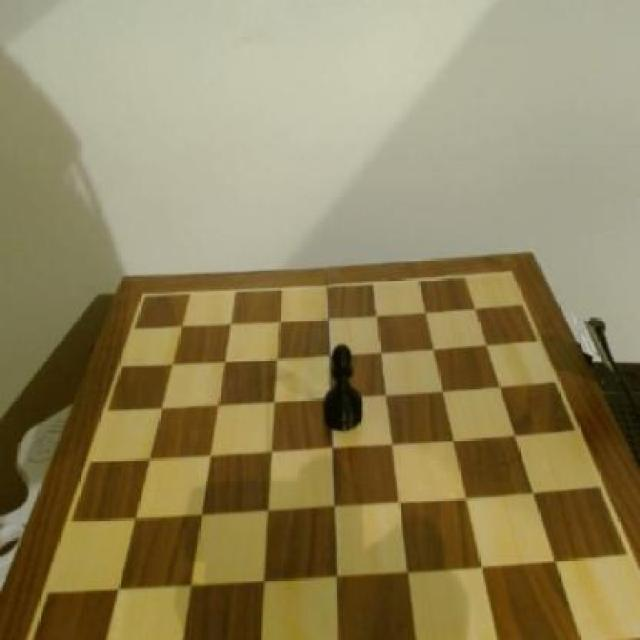black-knight: (322, 340, 369, 442)
